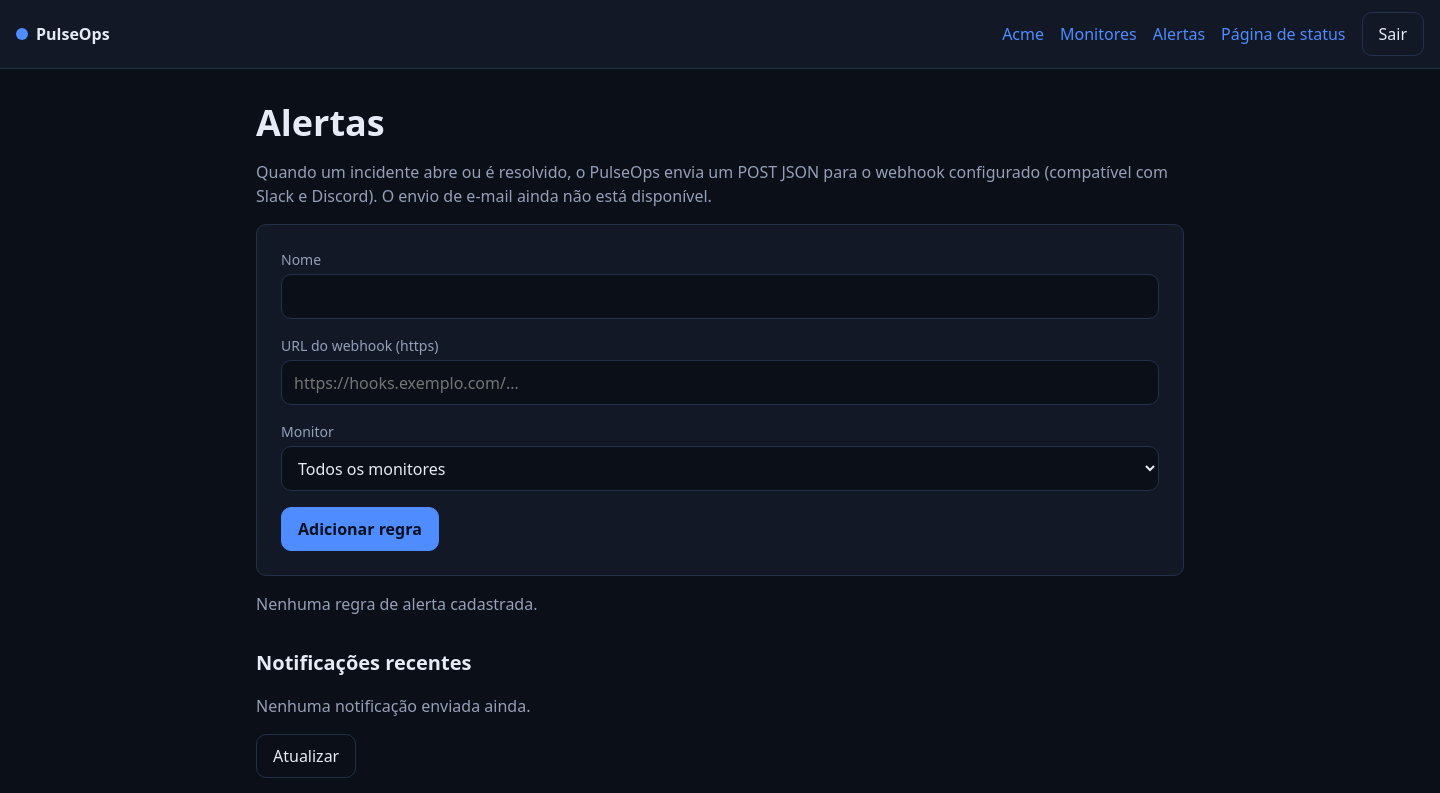
Test: páginas de alertas e status › AlertsPage › mostra o erro da API ao tentar cadastrar destino interno
Type "Interna" into the field labelled "Nome". click: (720, 296)
box: [281,274,1159,319]
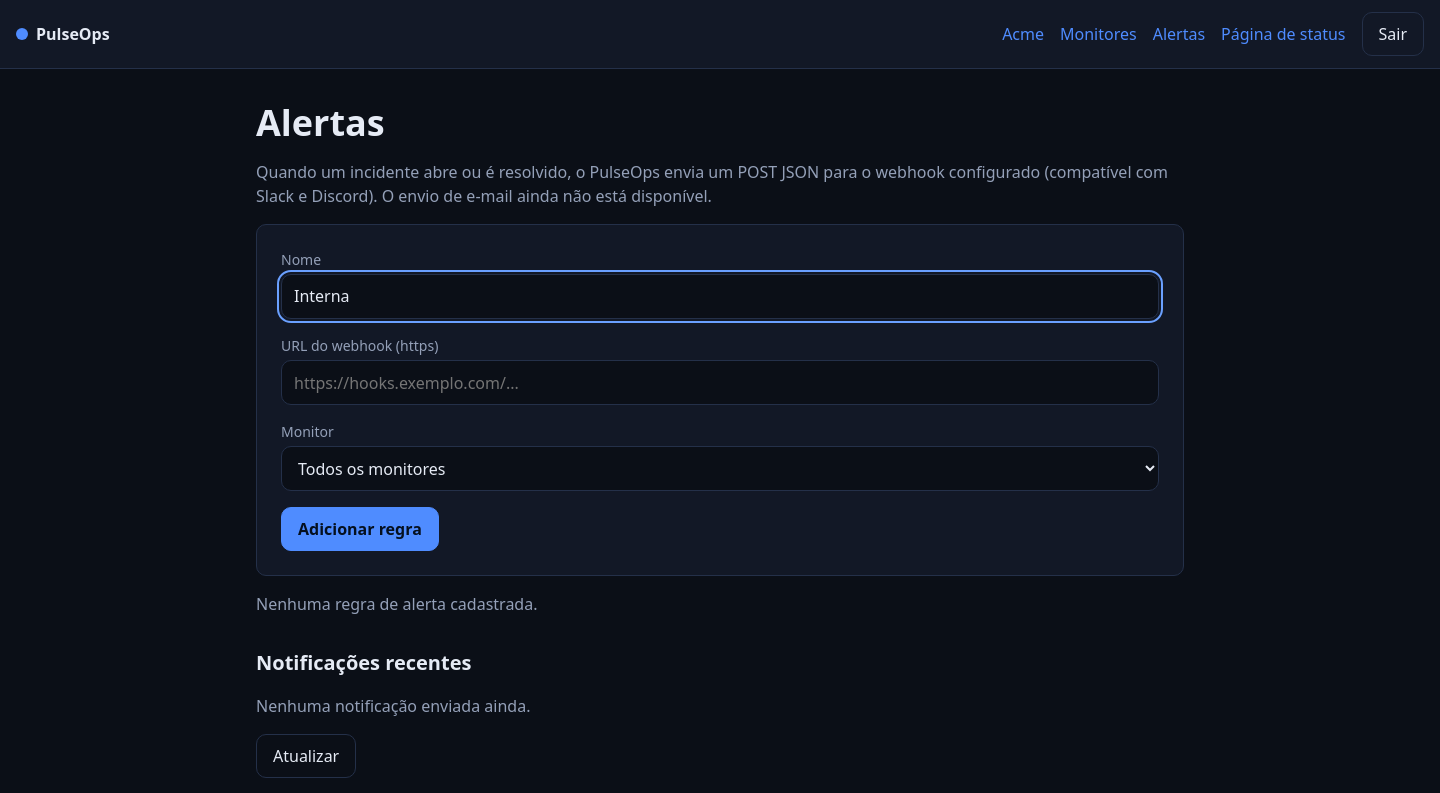
Type "http://127.0.0.1/hook" into the field labelled "URL do webhook (https)". click: (720, 383)
box: [281,360,1159,405]
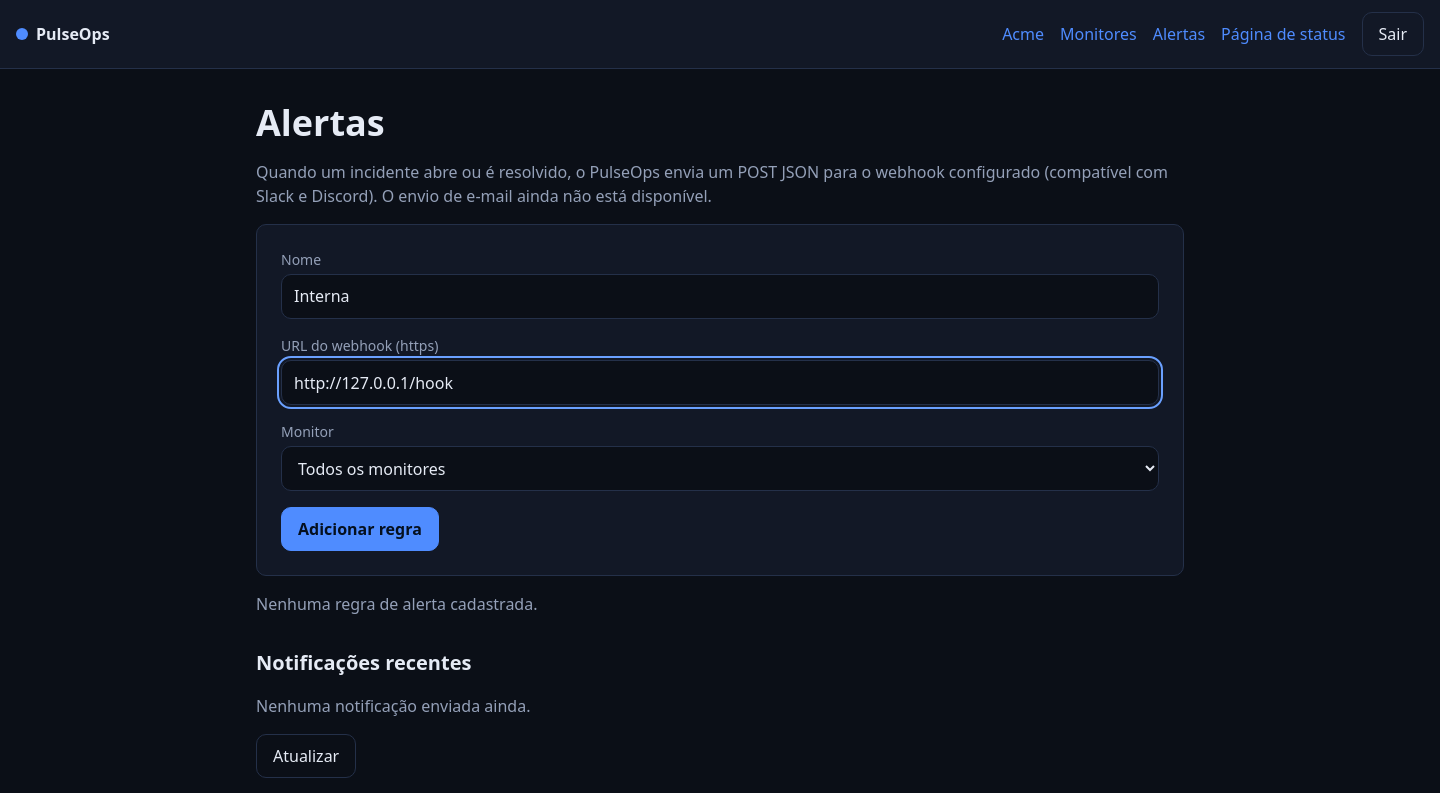
Click the button "Adicionar regra". click: (360, 529)
box: [281,507,439,551]
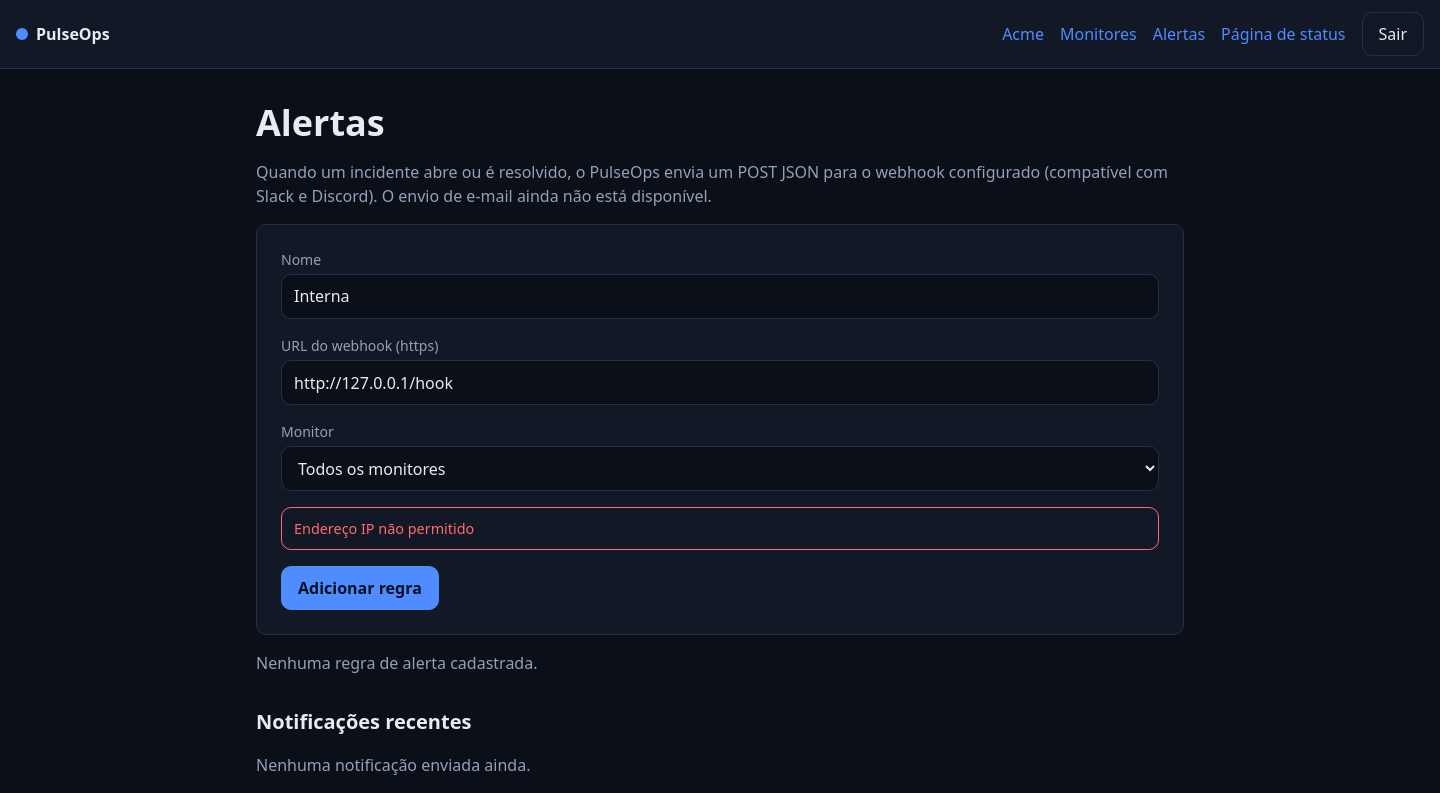
Expected: the message reads "Endereço IP não permitido", [294,519,474,538]
